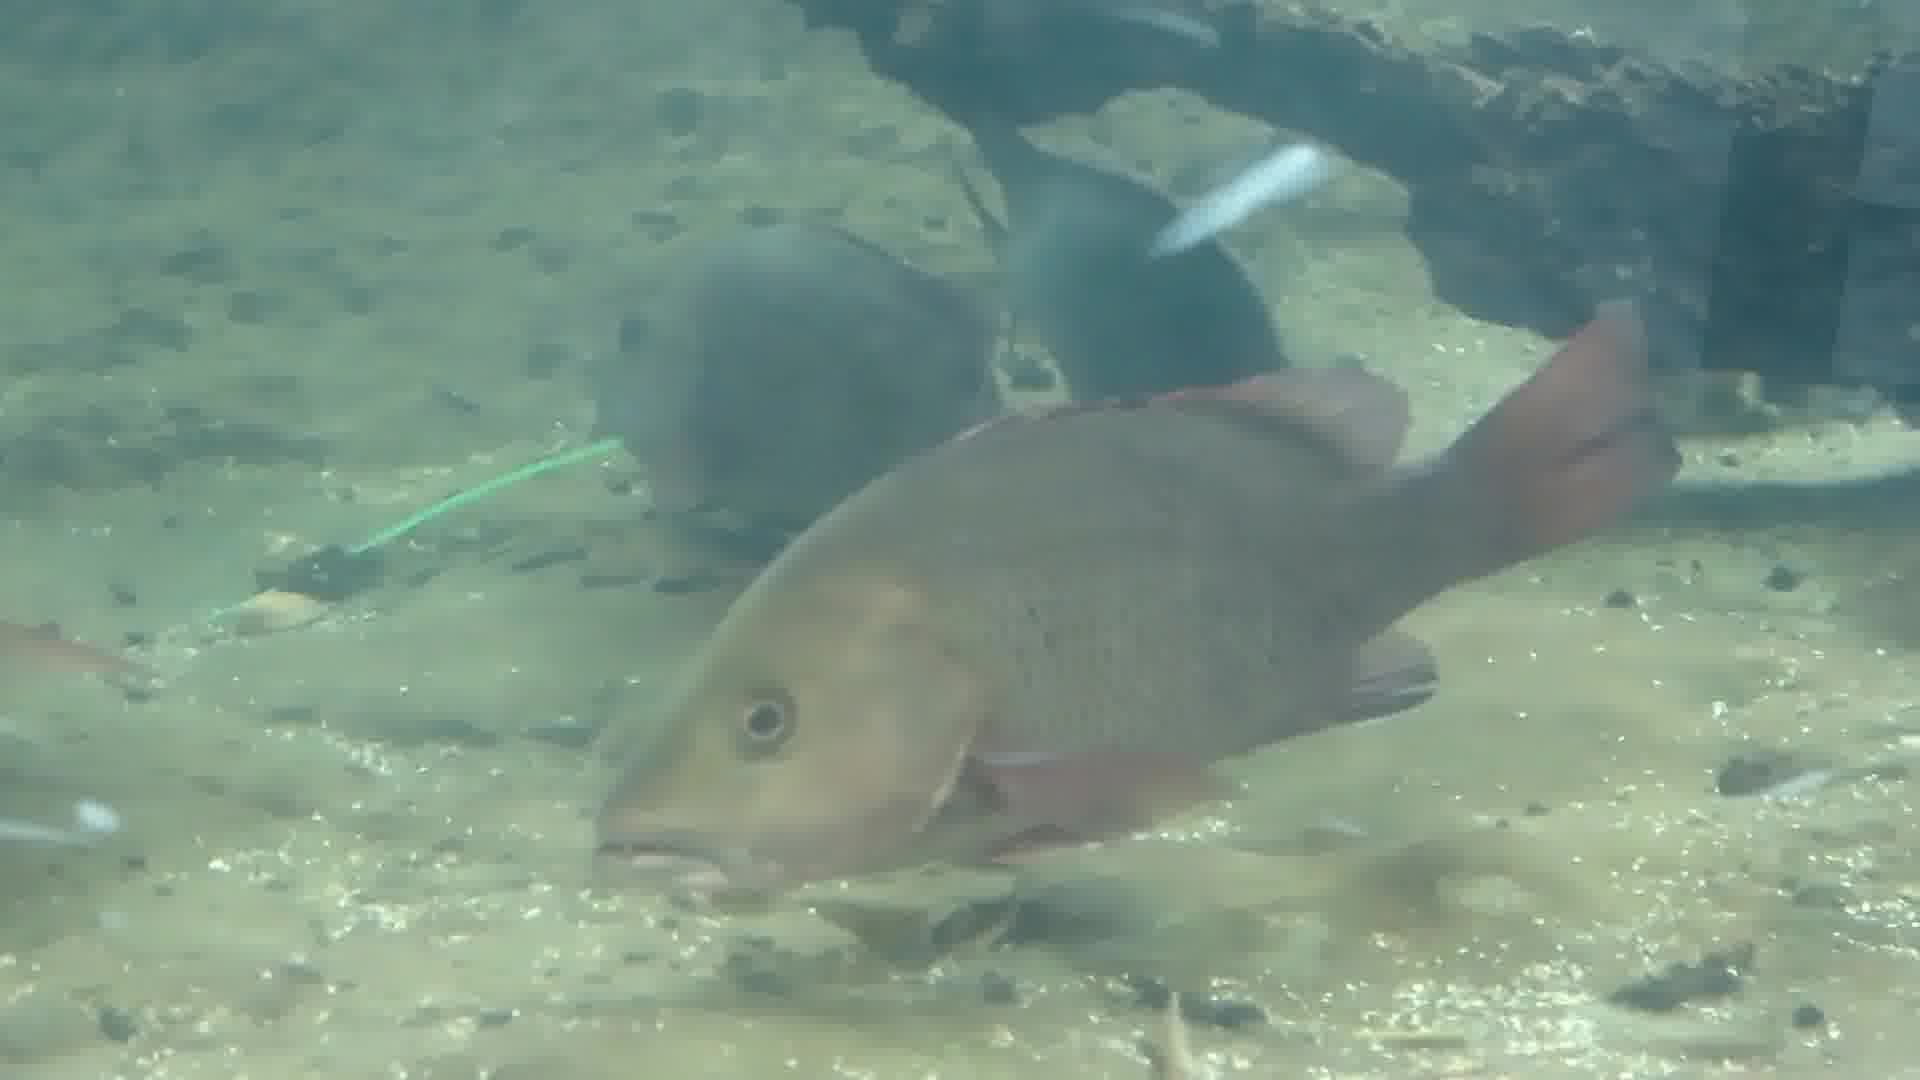Lutjanus argentimaculatus: (553, 394, 1555, 895)
